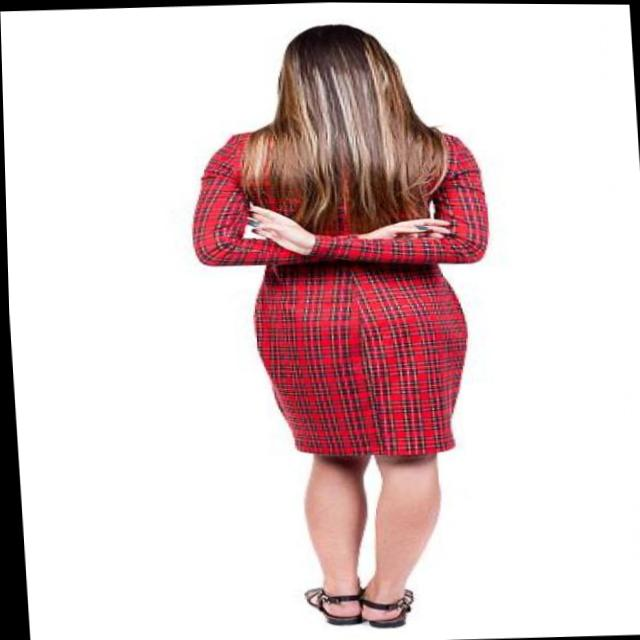no helmet: (269, 19, 411, 125)
